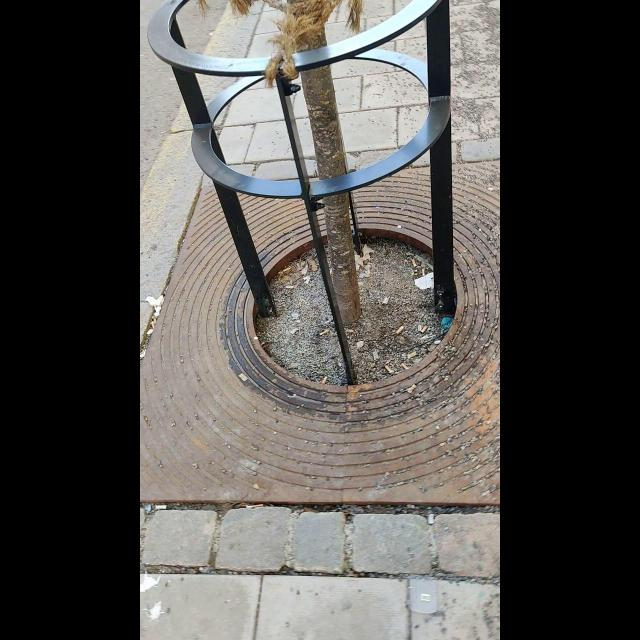cigarette: (245, 502, 266, 509), (148, 316, 158, 329), (237, 373, 249, 383), (427, 512, 435, 526), (384, 364, 394, 375), (154, 504, 168, 511), (395, 325, 404, 335), (408, 383, 417, 392), (382, 295, 389, 306), (317, 329, 328, 336), (280, 267, 292, 273), (408, 352, 418, 359), (421, 324, 428, 334), (401, 361, 408, 370), (321, 374, 327, 384), (411, 259, 417, 268), (421, 269, 425, 277)
